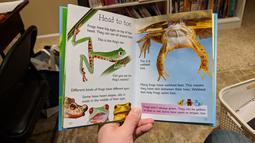text block: (137, 80, 207, 99), (83, 22, 136, 46), (139, 103, 209, 115), (81, 91, 127, 103), (69, 84, 132, 92), (97, 13, 134, 26), (110, 71, 134, 82), (139, 57, 152, 73)
